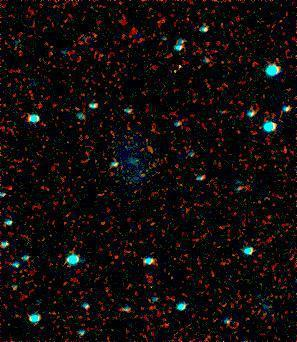star: (221, 116, 251, 146)
